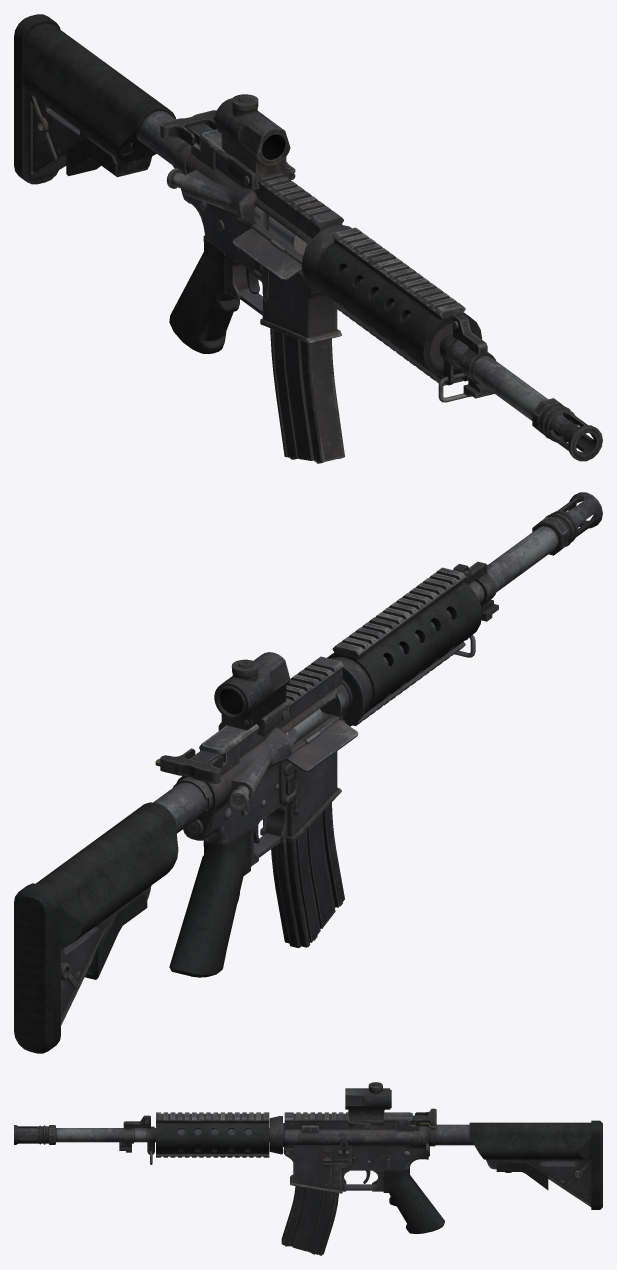
File: Carbine_NOANIMSfbx.fbx
The picture shows the model from 3 angles, top to bottom: view 1: azimuth 30°, elevation 25°; view 2: azimuth 150°, elevation 25°; view 3: azimuth 270°, elevation 25°; orthographic projection. The views are drawn at different scales.
Visible parts, largest first — view 1: base; view 2: base; view 3: base.
Boxes of the visible parts, x1,y1,x2,y2 form: base: [14, 14, 602, 463]; base: [14, 492, 602, 1053]; base: [14, 1082, 602, 1255].
Bounding box in the file's own units: 21.67 × 88.71 × 280.
